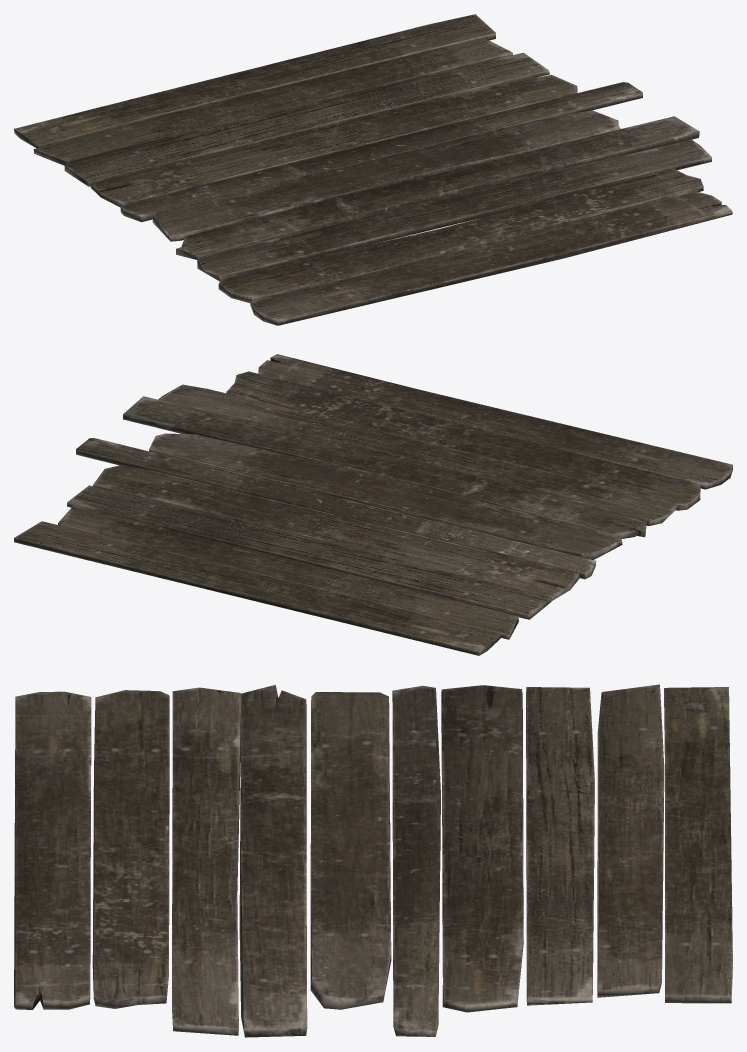
Rendered from bridge-planks-lod.glb.
3 renders of one model, top to bottom at view 1: azimuth 30°, elevation 25°; view 2: azimuth 150°, elevation 25°; view 3: azimuth 270°, elevation 25°, orthographic. The views are drawn at different scales.
Parts seen in each view (by area): view 1: modular_wooden_pier_planks; view 2: modular_wooden_pier_planks; view 3: modular_wooden_pier_planks.
Part boxes in pixels (x1=…): modular_wooden_pier_planks: x1=14, y1=14, x2=732, y2=325; modular_wooden_pier_planks: x1=14, y1=354, x2=732, y2=655; modular_wooden_pier_planks: x1=14, y1=684, x2=732, y2=1037.
Size of the model in its own units: 2.52 by 0.0752 by 2.2.
1 material, 1 textured.
